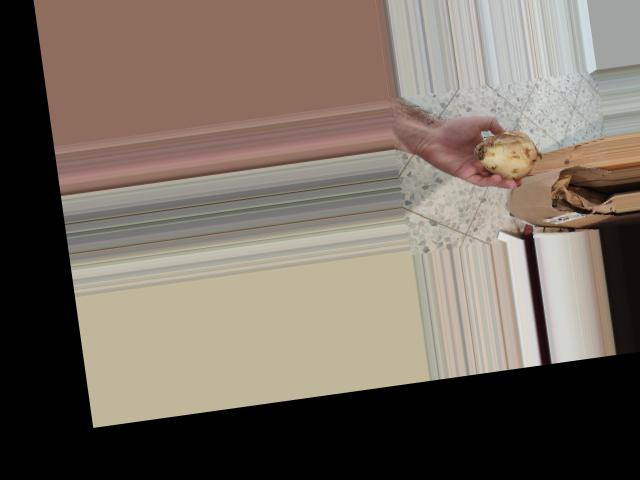onion: (469, 123, 545, 186)
